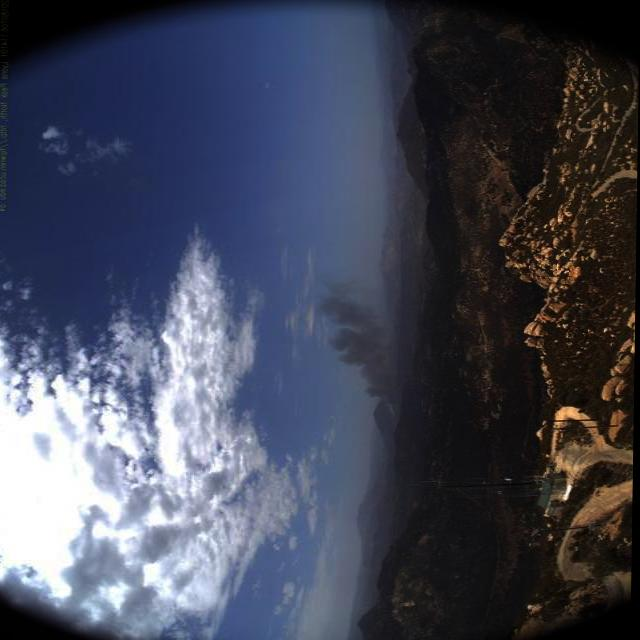smoke: (300, 274, 412, 454)
